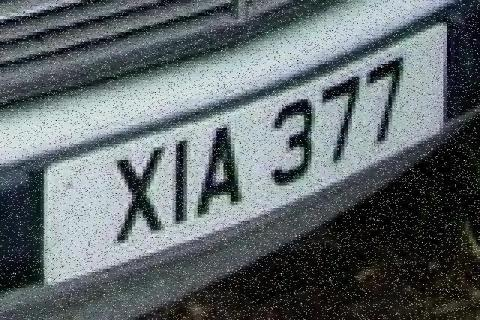LicensePlate: (18, 10, 466, 293)
